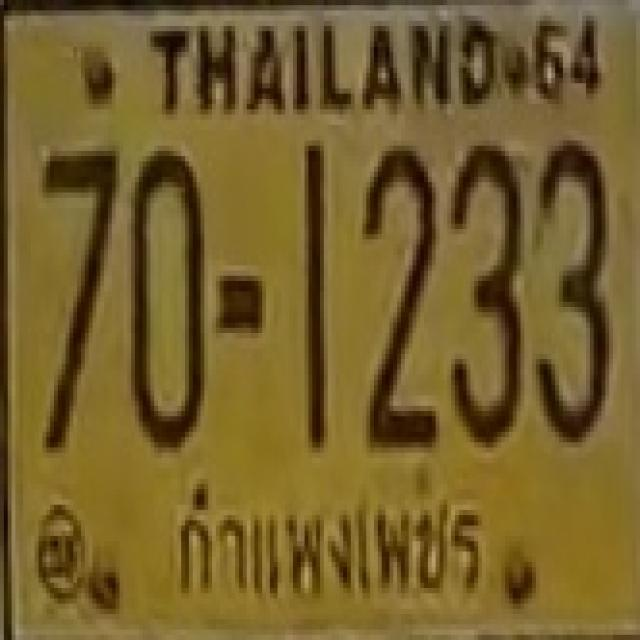0: (127, 148, 201, 445)
1: (302, 140, 332, 458)
2: (361, 143, 444, 452)
3: (447, 140, 521, 442), (532, 138, 605, 440)
7: (38, 146, 116, 459)
KPT: (164, 466, 497, 611)
